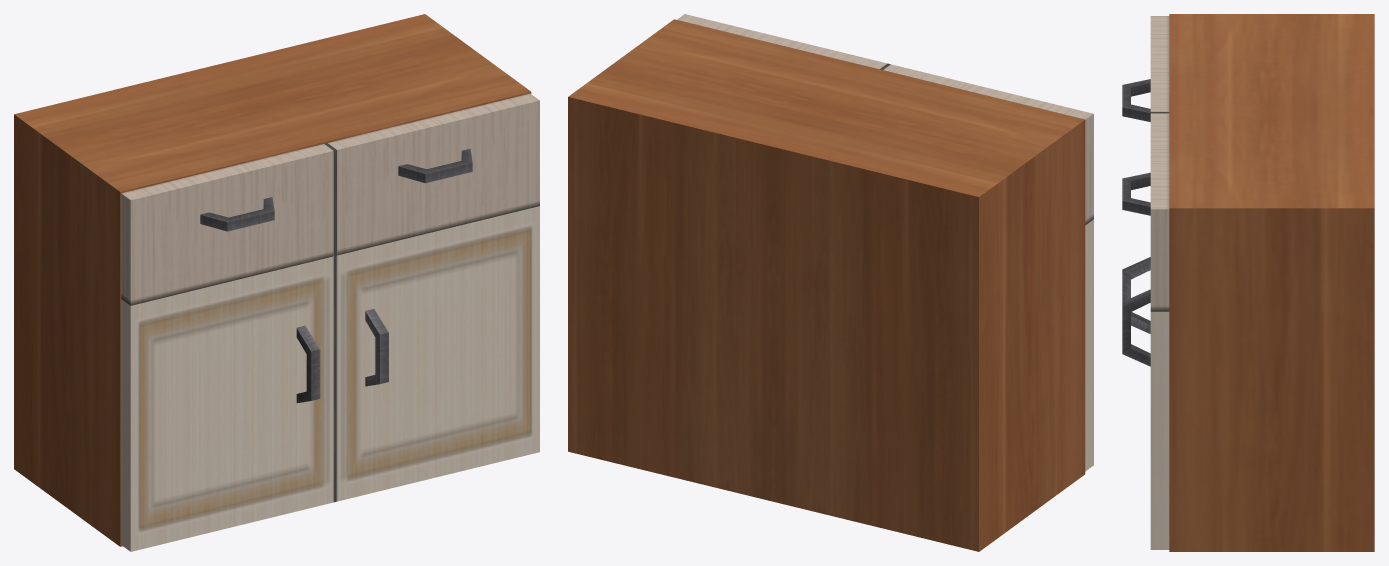
File: Kitchen_Cabinet_1D.fbx
3 views of the same model, side by side, from view 1: azimuth 30°, elevation 25°; view 2: azimuth 150°, elevation 25°; view 3: azimuth 270°, elevation 25° (orthographic). The views are drawn at different scales.
Visible parts, largest first — view 1: polySurface543; view 2: polySurface543; view 3: polySurface543.
Part boxes in pixels (left/top/right/bottom): polySurface543: left=14, top=14, right=539, bottom=551; polySurface543: left=568, top=14, right=1093, bottom=551; polySurface543: left=1122, top=14, right=1374, bottom=551.
Bounding box in the file's own units: 1.56 × 1.29 × 0.8565.
